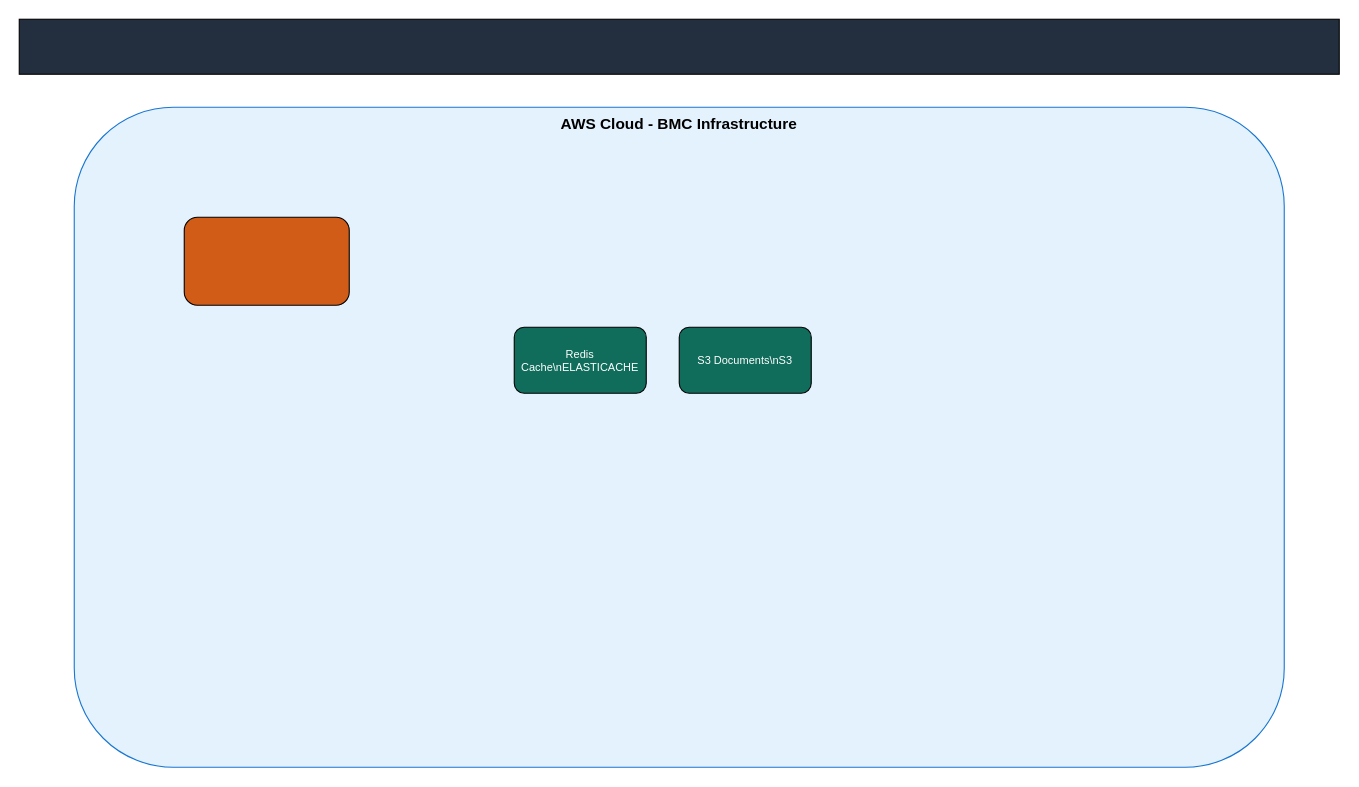
Image size: 1359x787. Some labels were removed from this diagram. The shapes that lost their labels are listed below. From the top down, each one's centre as x and y in pixels, then its label:
At (678,46): "BMC_INPUT - MCP Architecture".
At (266,260): "Certificate Service\nGeneración de certificados PDF...".
